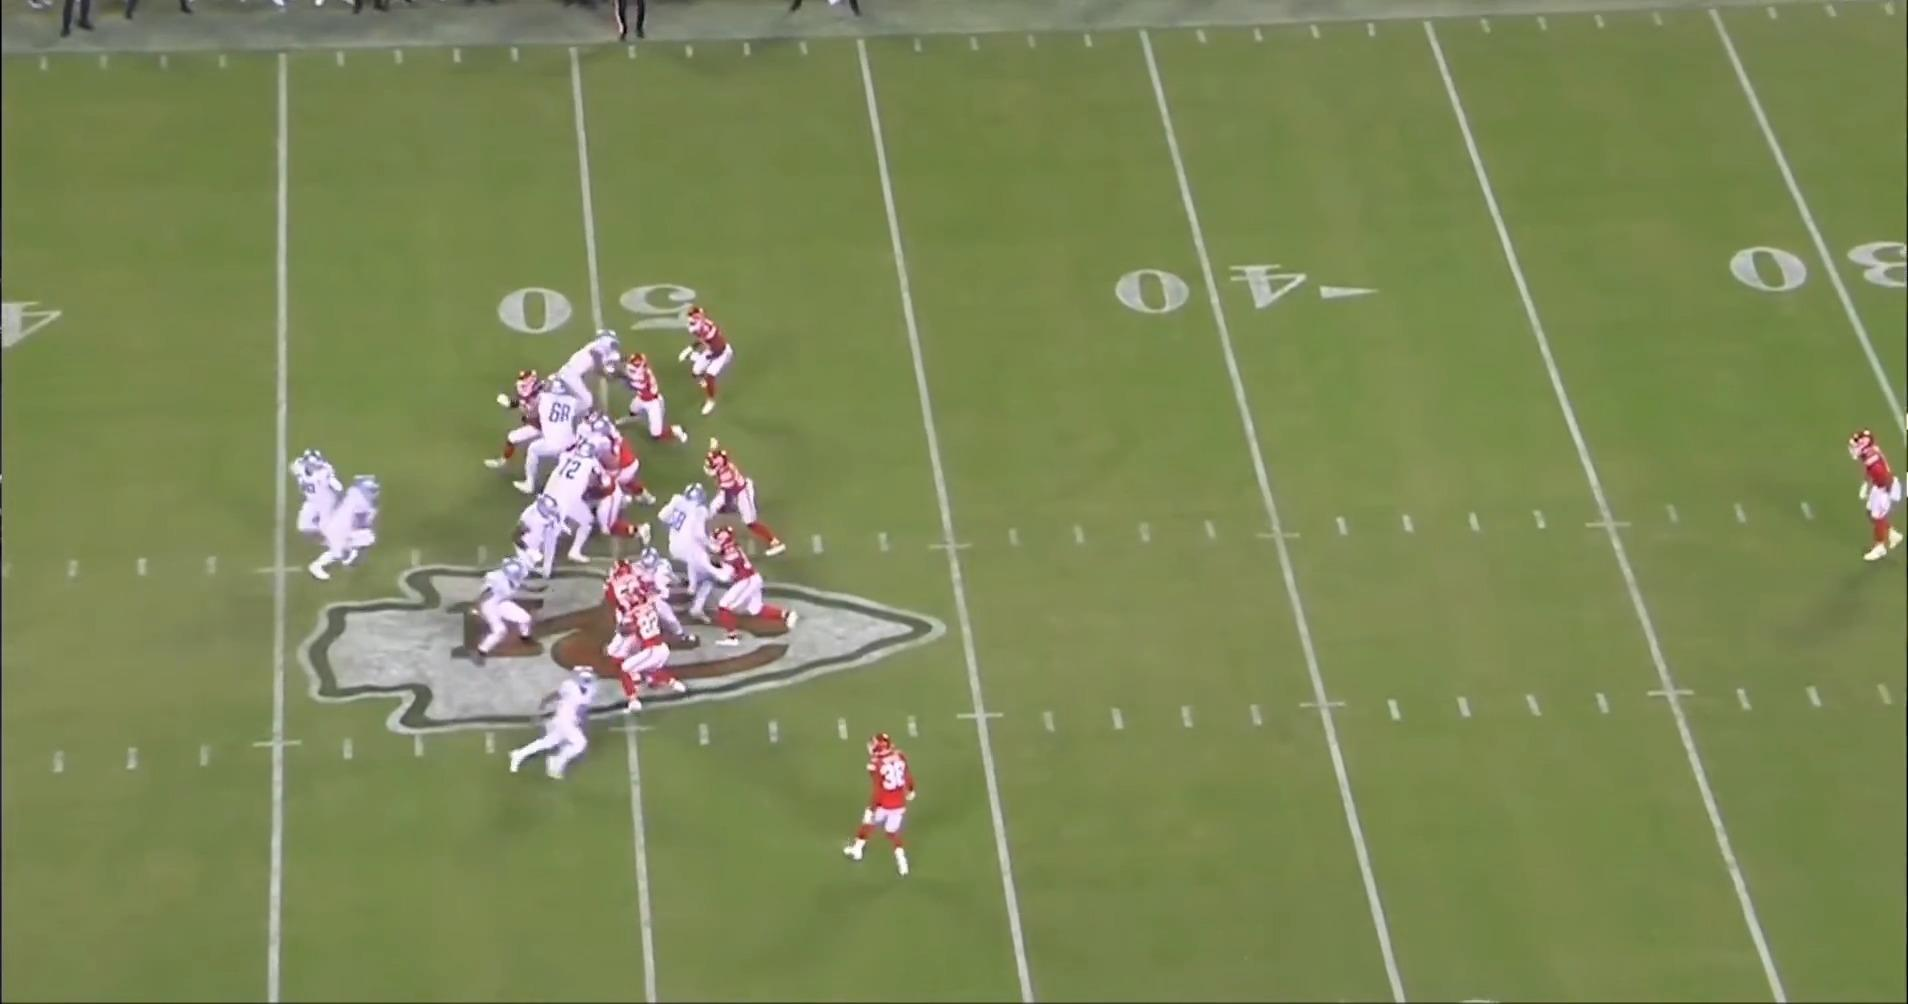defense: (843, 735, 925, 883), (602, 583, 684, 718), (702, 528, 792, 645), (702, 440, 791, 557), (583, 407, 660, 515), (1850, 430, 1908, 571), (607, 349, 688, 448), (579, 447, 654, 549), (685, 296, 745, 416), (502, 367, 550, 482), (604, 559, 645, 651)
oline: (666, 479, 734, 613), (539, 439, 606, 564), (514, 376, 575, 496), (514, 496, 567, 561), (572, 417, 616, 460)
qb: (290, 448, 351, 561)
skill: (498, 665, 616, 788), (458, 550, 551, 680), (598, 554, 694, 660), (303, 470, 387, 587), (554, 332, 617, 421)
